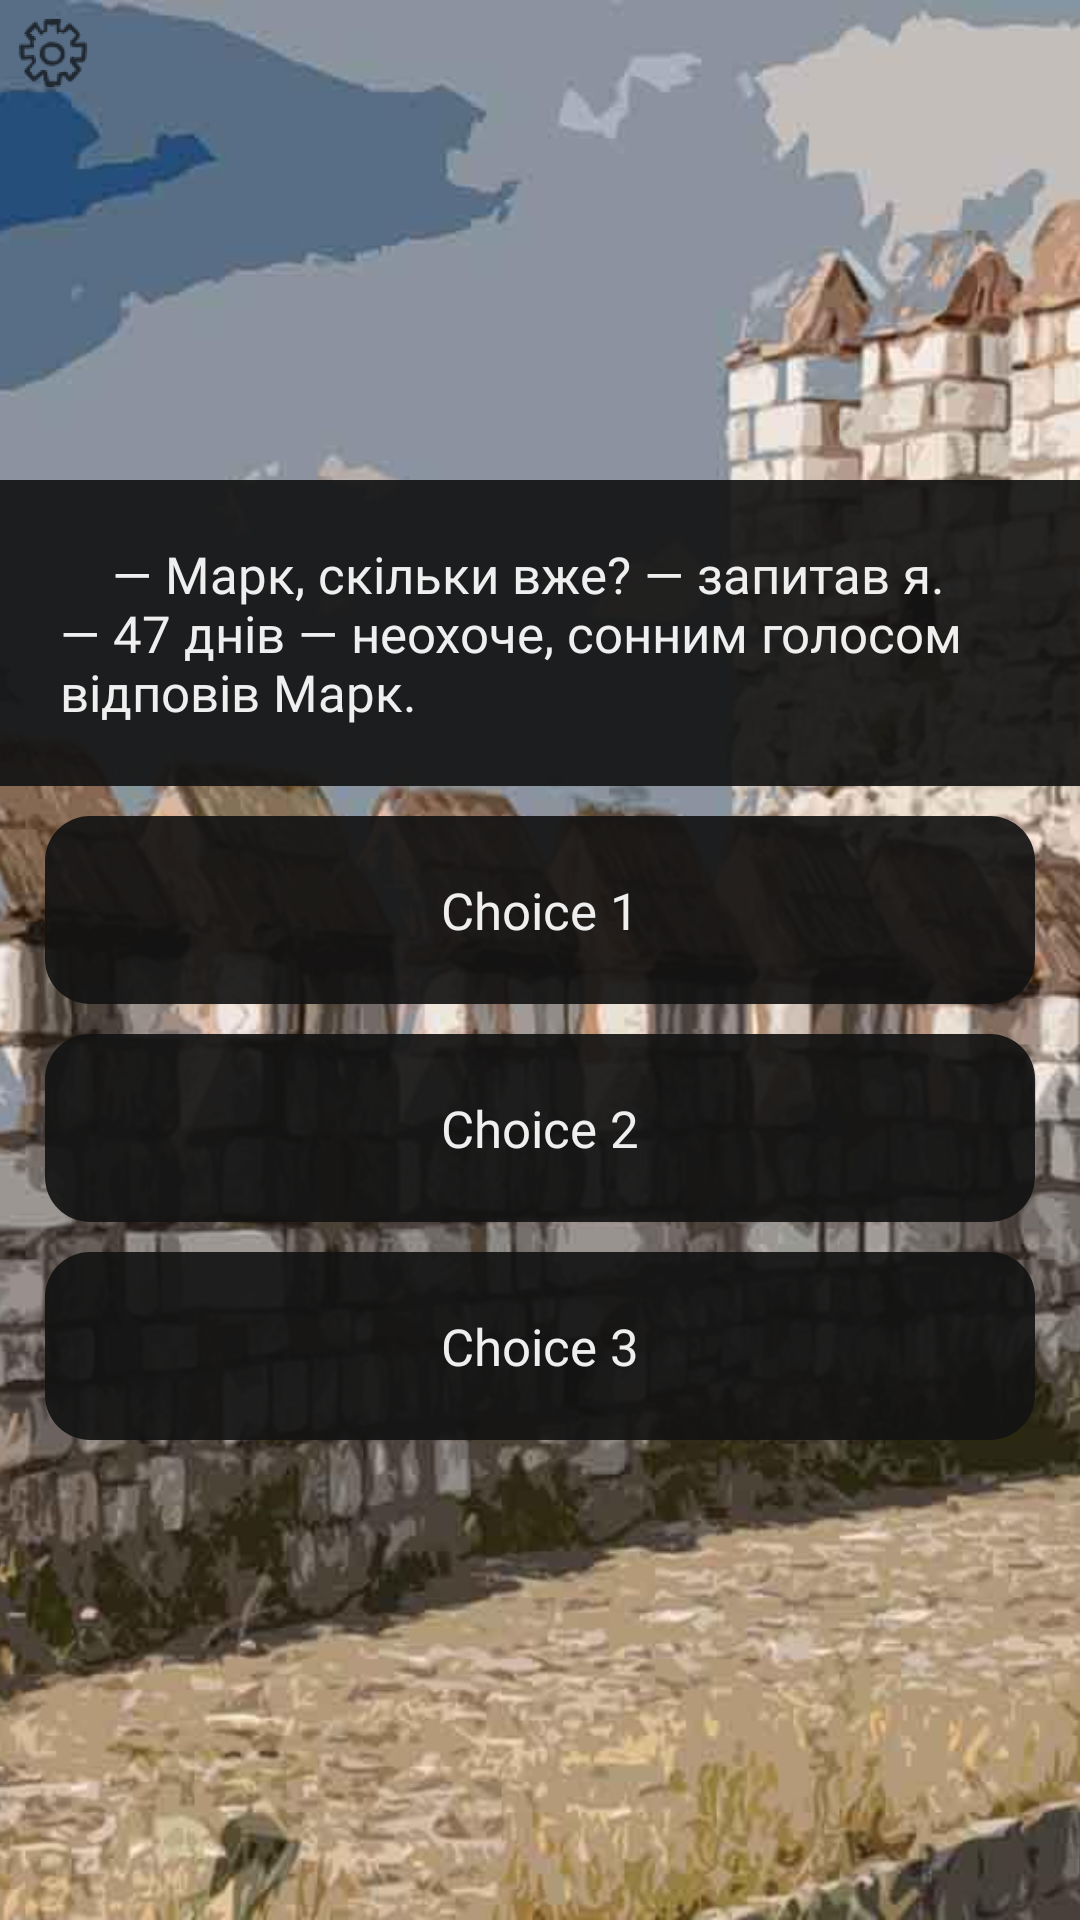

Screen size 1080*1920. Icon name, then its box in pixels as (x1, y1, x2, y2):
settings: (19, 19, 87, 88)
